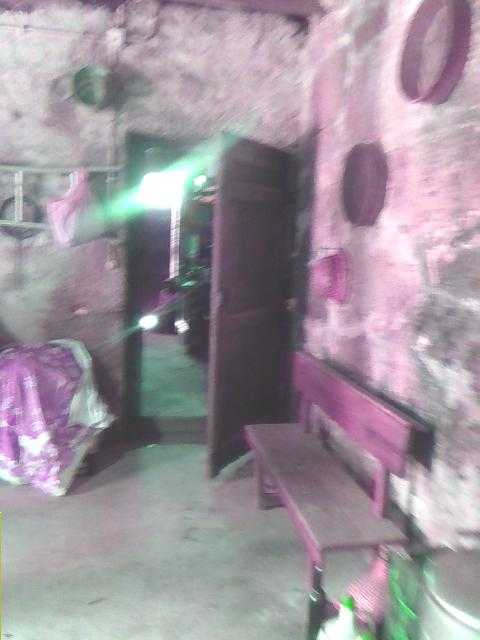semi_door: (112, 120, 307, 486)
